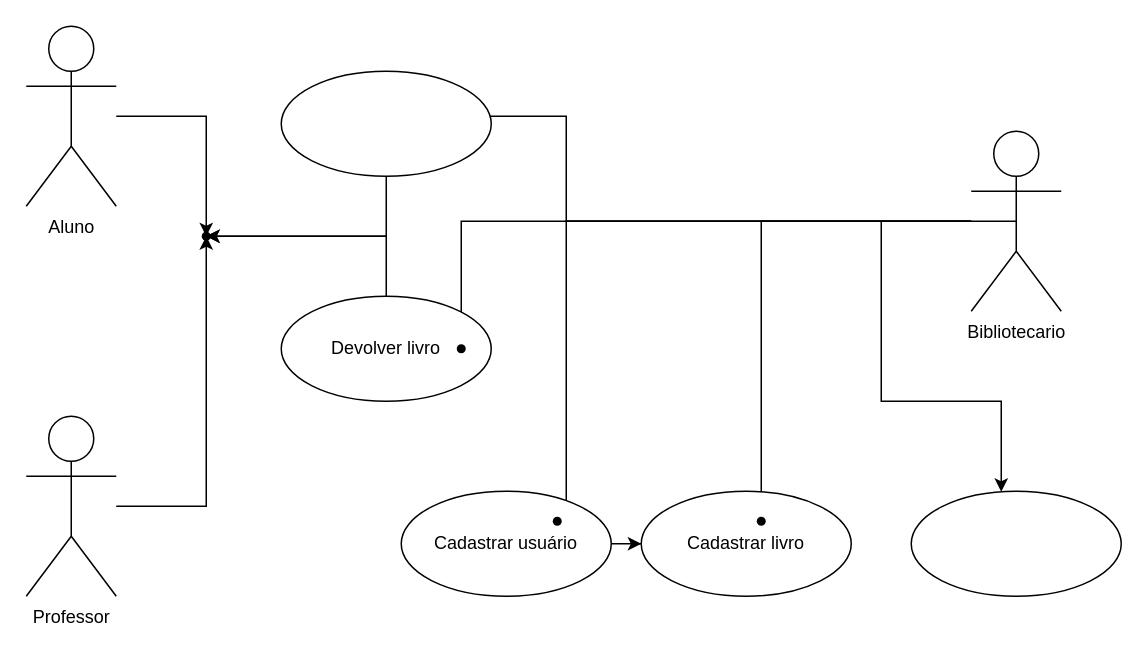
Some shapes in this 1148 by 654 pixel diagram are drawn without their labels. The shapes that lost their labels are listed below. From the top down, each one's centre as x and y in pixels, then its label:
At point (385, 123): "Emprestar livro".
At point (1015, 543): "Gerar Relatorio".
